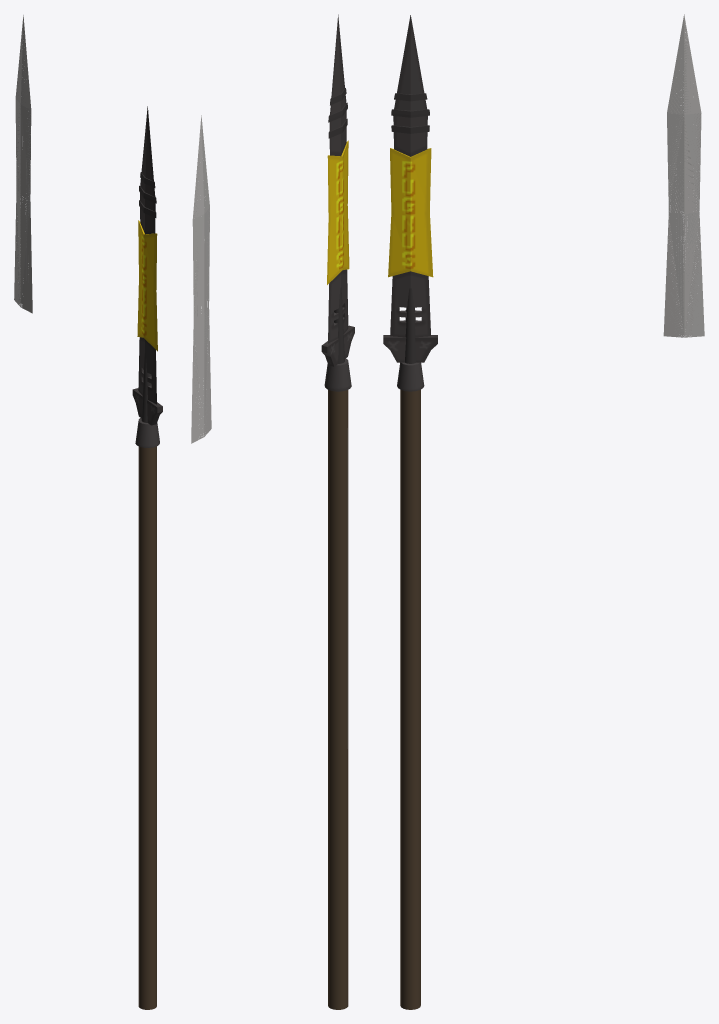
Rendered from lance.obj.
3 views of the same model, side by side, from view 1: azimuth 30°, elevation 25°; view 2: azimuth 150°, elevation 25°; view 3: azimuth 270°, elevation 25° (orthographic). The views are drawn at different scales.
Visible parts, largest first — view 1: Spear, Blade; view 2: Spear, Blade; view 3: Spear, Blade.
Boxes of the visible parts, x1,y1,x2,y2 form: Spear: (132, 106, 162, 1009); Blade: (14, 15, 32, 313); Spear: (321, 14, 354, 1009); Blade: (191, 115, 211, 443); Spear: (383, 15, 437, 1009); Blade: (663, 14, 704, 337).
Bounding box in the file's own units: 1 × 40 × 11.75.
